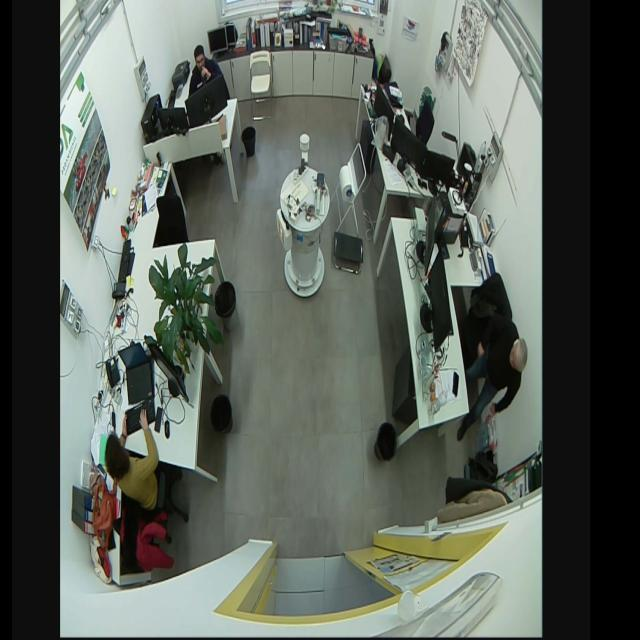Persona: (103, 404, 163, 518), (468, 326, 528, 424), (186, 41, 224, 100)
